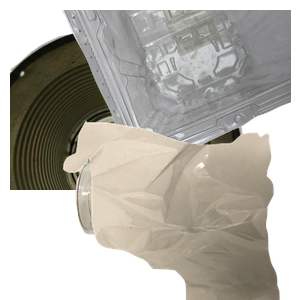glass: (73, 153, 284, 300)
metal: (10, 23, 250, 203)
plastic: (60, 10, 300, 162)
trash: (61, 120, 300, 300)
